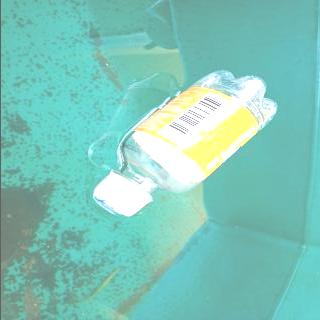bottle: (89, 68, 280, 218)
